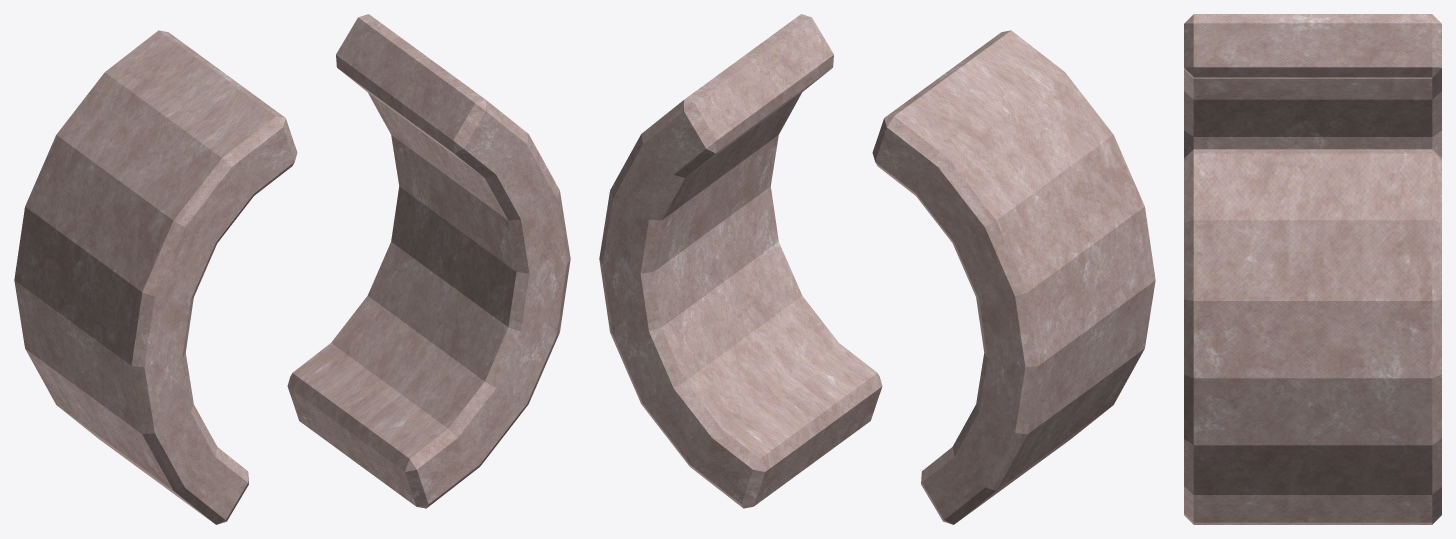
File: OnimasuPlanetRotatePartsA.dae
The picture shows the model from 3 angles, left to right: view 1: azimuth 30°, elevation 25°; view 2: azimuth 150°, elevation 25°; view 3: azimuth 270°, elevation 25°; orthographic projection.
Parts seen in each view (by area): view 1: m0; view 2: m0; view 3: m0.
Part boxes in pixels (x1,y1,x2,y2): m0: [14, 14, 570, 524]; m0: [599, 14, 1155, 524]; m0: [1184, 14, 1441, 524].
Bounding box in the file's own units: 1600 × 1494 × 800.
Materials: 1 (1 with a texture image).
